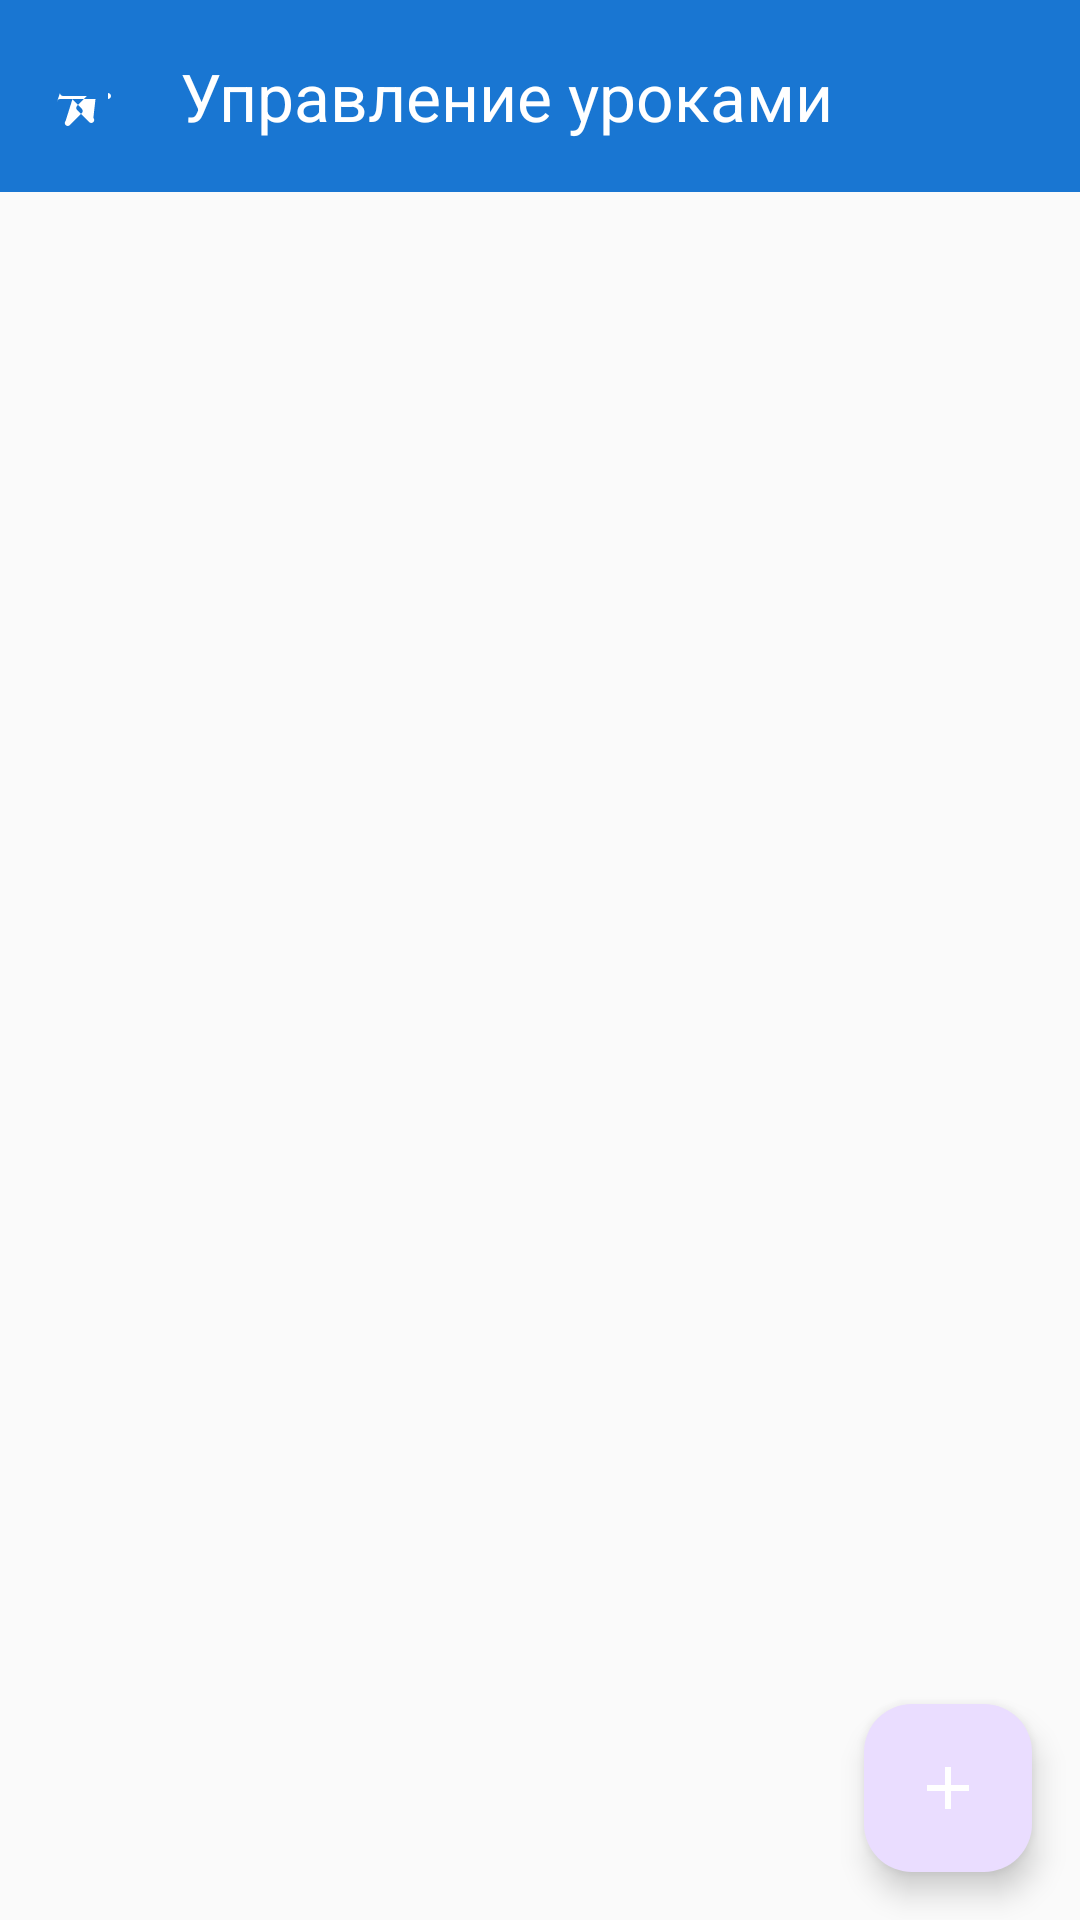

Icons on this 1080 × 1920 Android screen, each with the point to tap as (x=x, y=y):
Добавить урок: (x=948, y=1788)
